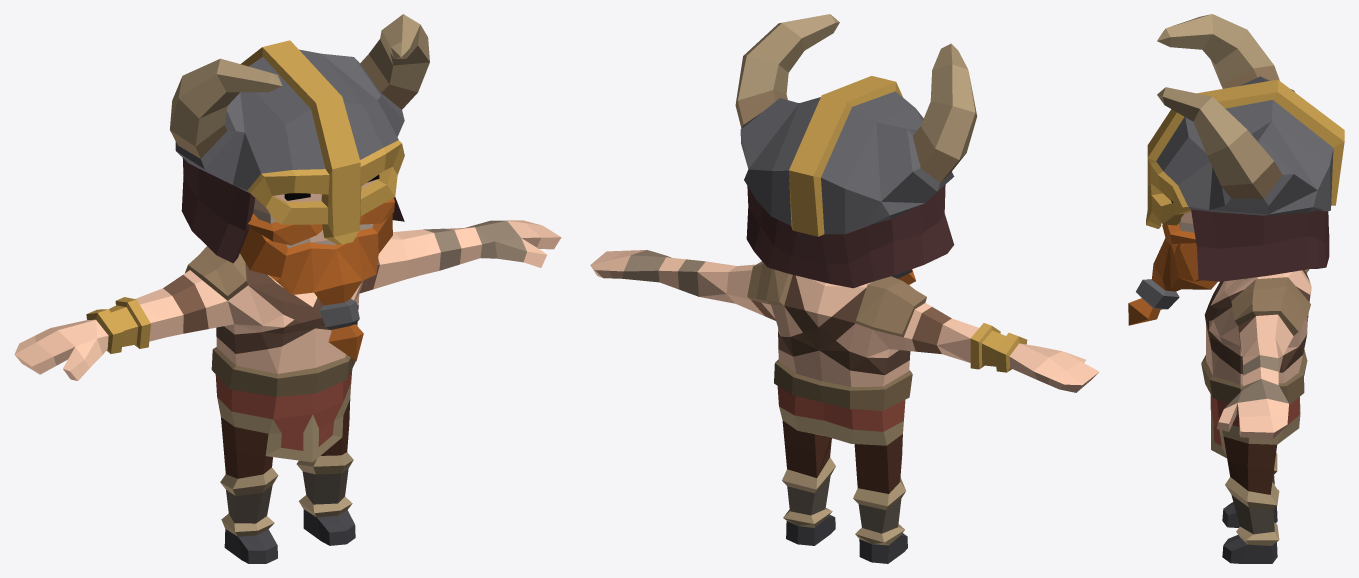
File: viking_1.glb
The picture shows the model from 3 angles, left to right: view 1: azimuth 30°, elevation 25°; view 2: azimuth 150°, elevation 25°; view 3: azimuth 270°, elevation 25°; orthographic projection. The views are drawn at different scales.
Parts seen in each view (by area): view 1: Viking; view 2: Viking; view 3: Viking.
Part boxes in pixels (x1,y1,x2,y2): Viking: [14, 14, 561, 563]; Viking: [590, 14, 1099, 563]; Viking: [1128, 14, 1344, 563].
Size of the model in its own units: 2.13 by 2.01 by 0.8136.
Materials: 1 (1 with a texture image).
